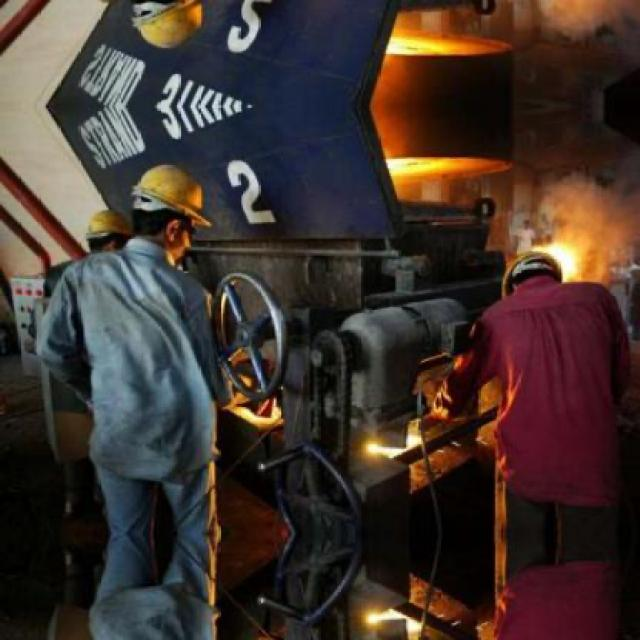helmet: (129, 157, 209, 261), (497, 243, 580, 314), (129, 0, 211, 57), (84, 211, 130, 256)
